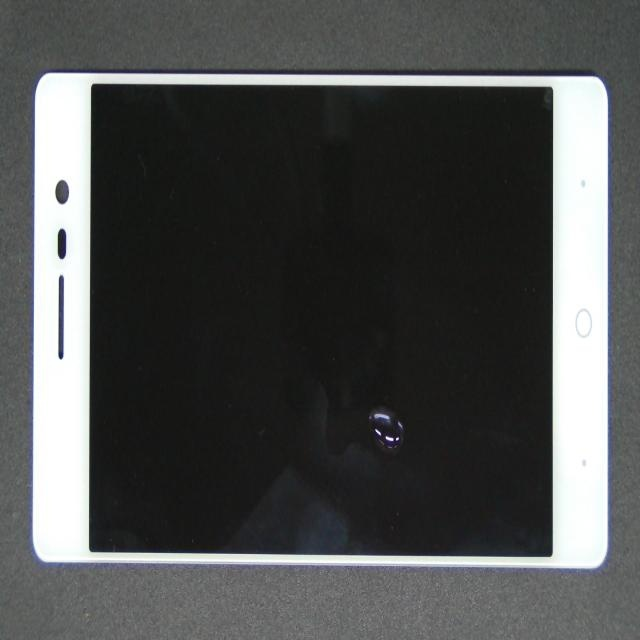oil: (204, 215, 607, 626)
